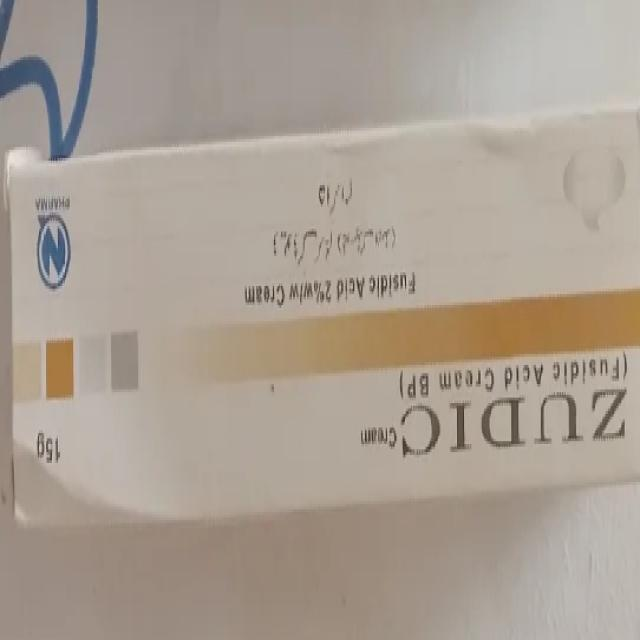drug-name: (392, 389, 630, 457)
